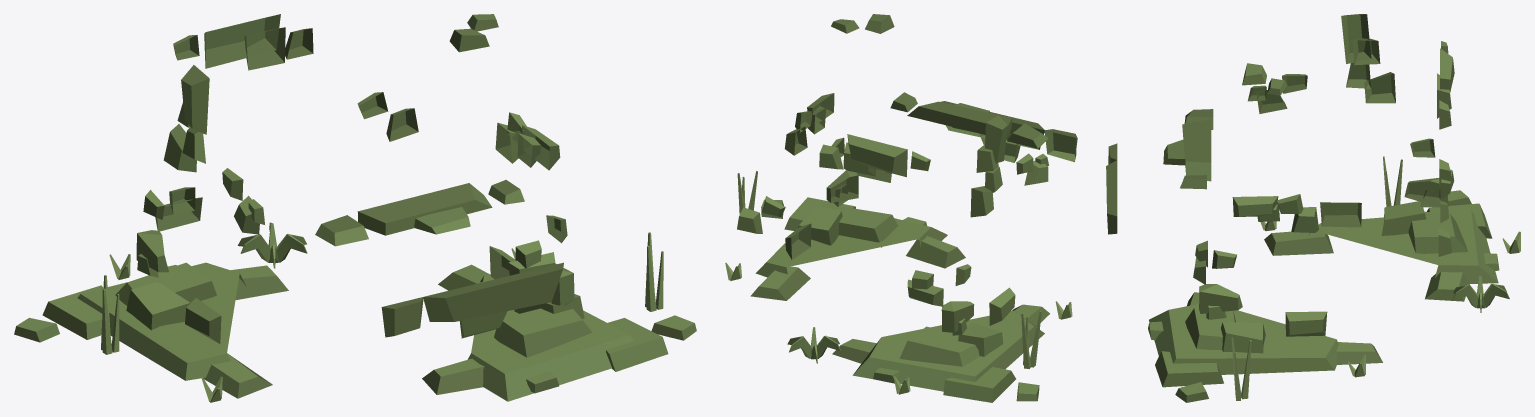
Rendered from SA_Bld_CoffeeShop_Growth_01.gltf.
3 renders of one model, left to right at view 1: azimuth 30°, elevation 25°; view 2: azimuth 150°, elevation 25°; view 3: azimuth 270°, elevation 25°, orthographic. The views are drawn at different scales.
Visible parts, largest first — view 1: SA_Bld_CoffeeShop_Growth_01; view 2: SA_Bld_CoffeeShop_Growth_01; view 3: SA_Bld_CoffeeShop_Growth_01.
Boxes of the visible parts, left/top/right/bottom form: SA_Bld_CoffeeShop_Growth_01: left=14, top=14, right=696, bottom=402; SA_Bld_CoffeeShop_Growth_01: left=725, top=14, right=1077, bottom=402; SA_Bld_CoffeeShop_Growth_01: left=1106, top=14, right=1520, bottom=402.
Bounding box in the file's own units: 18.32 × 10.85 × 15.54.
1 material, 1 textured.
